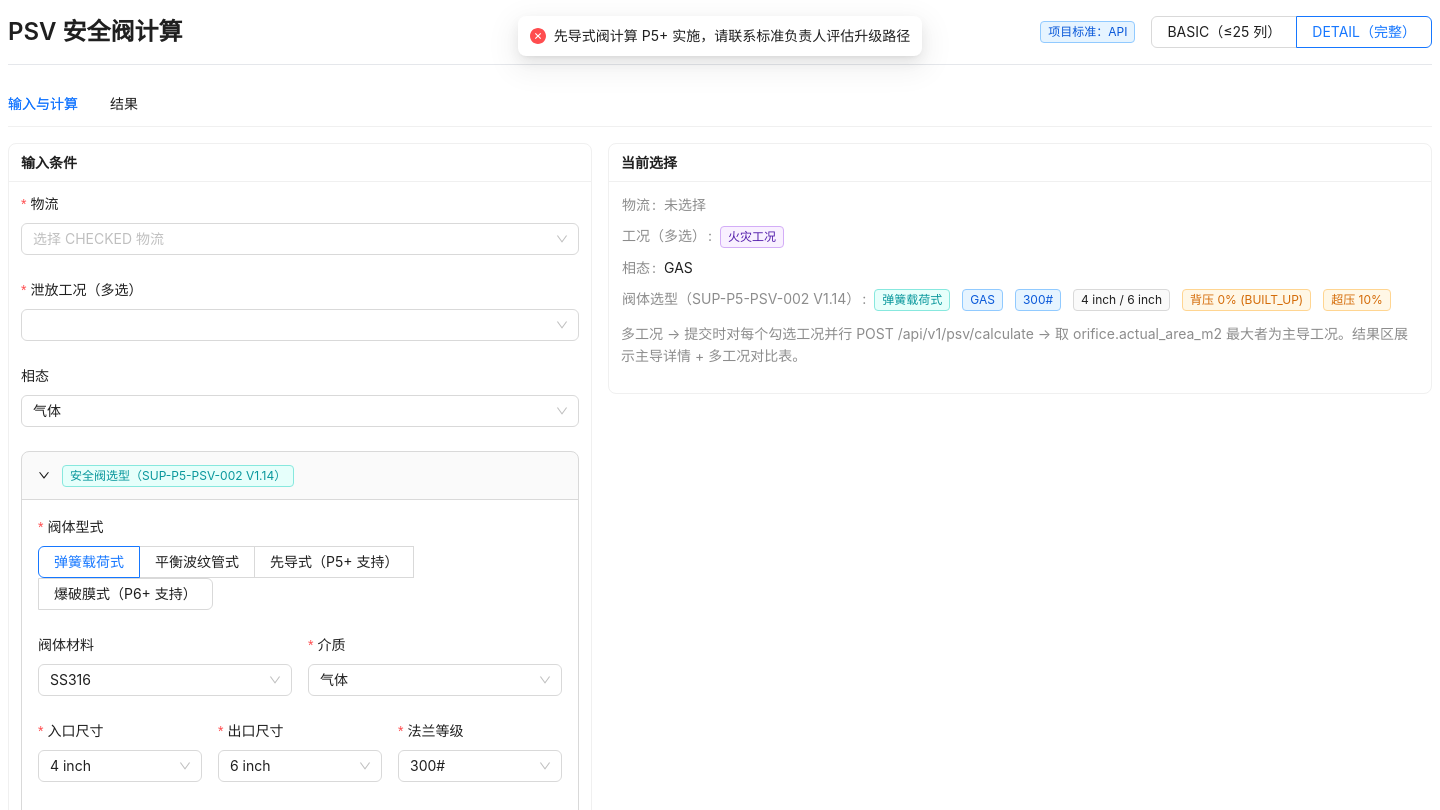
PsvComputePage — 安全阀选型 SUP-P5-PSV-002 §5.1 › SUP-P5-PSV-002 V1.14 §5.2：阀体型式 = BALANCED_BELLOWS → 波纹管材料 + 阀体品牌 Select 渲染
Click the radio button showing "BALANCED_BELLOWS" at point(197, 562), box left=139, top=546, right=255, bottom=578
(page scrolled)
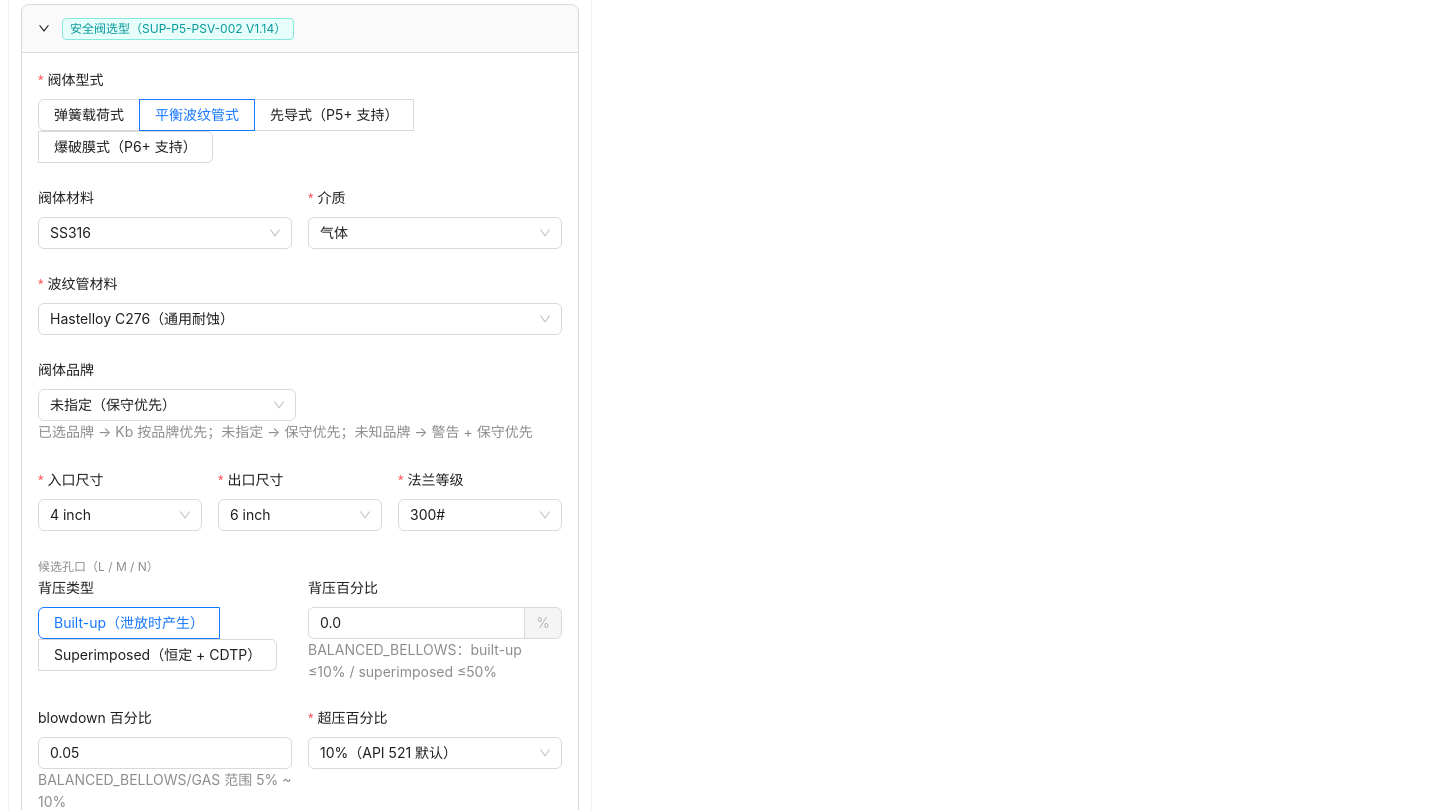
Result: the element with test id "psv-bellows-material-select" is shown at left=38, top=303, right=562, bottom=335
Result: the element with test id "psv-valve-brand-select" is shown at left=38, top=389, right=296, bottom=421
